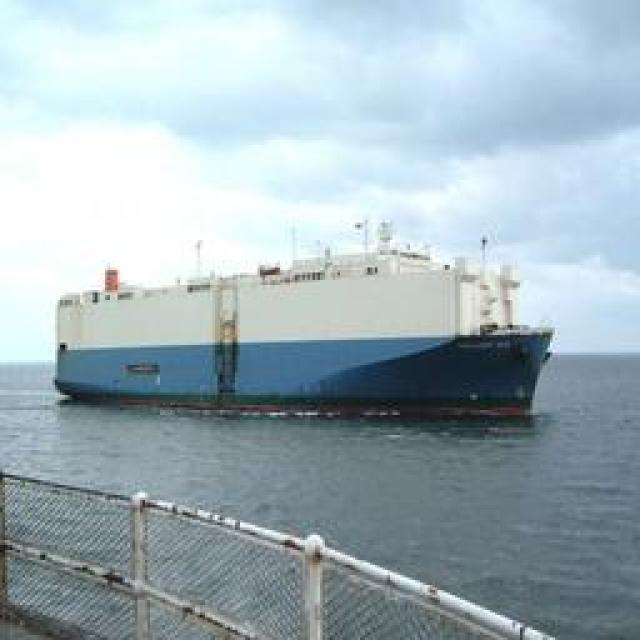ship2: (52, 216, 556, 428)
